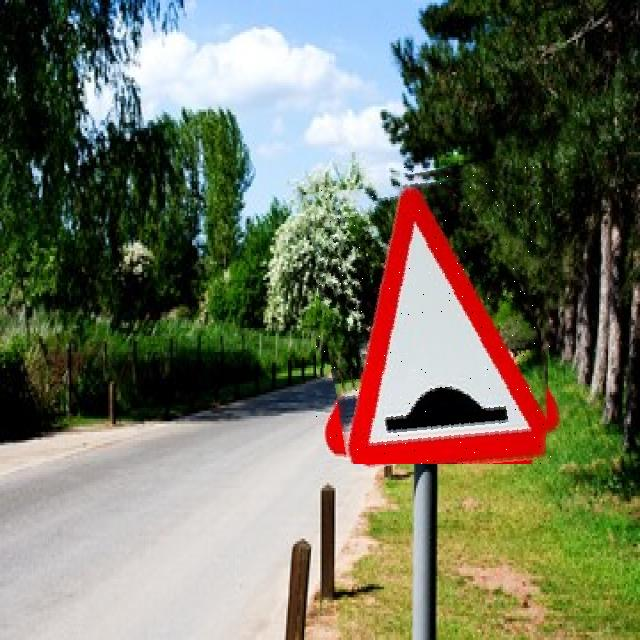hump: (316, 164, 552, 464)
